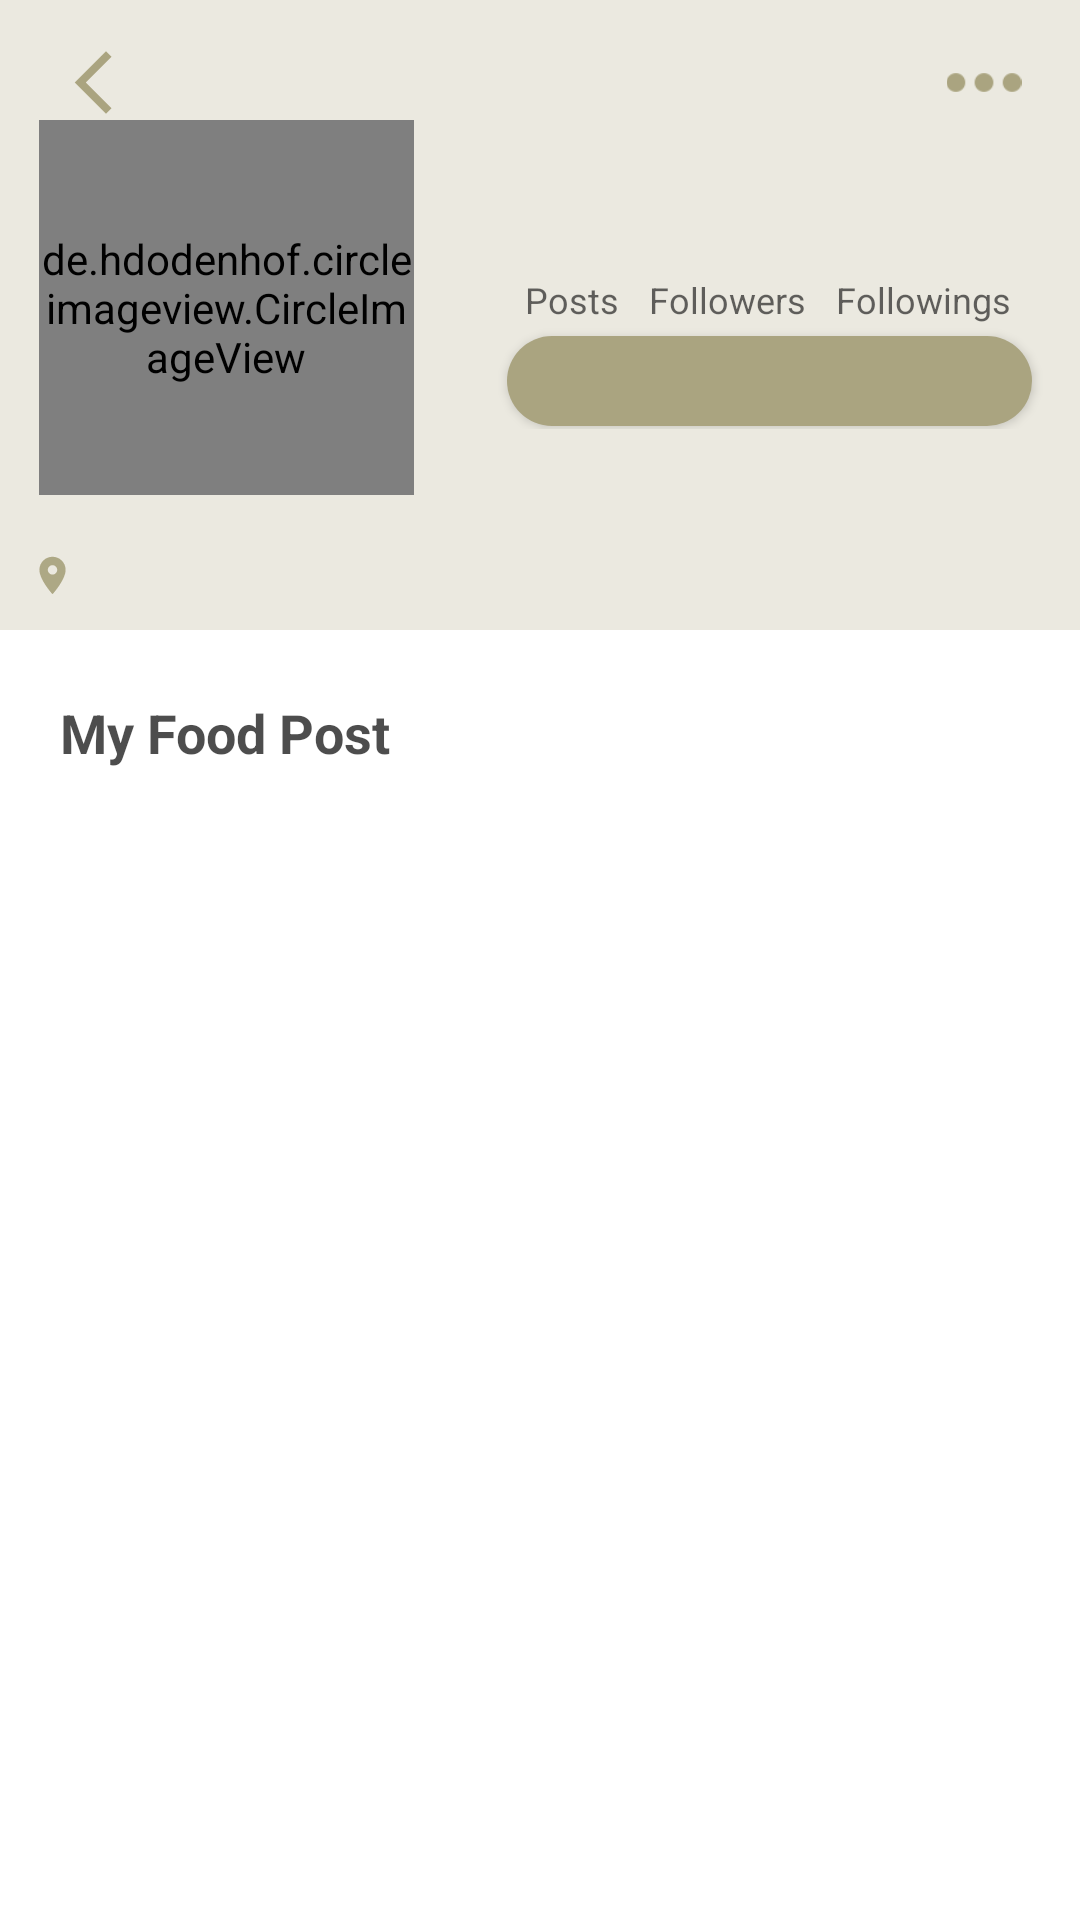

Icons on this 1080x1920 Android screen, each with the point to tap as [x,y]:
arrow back: [93,82]
location on: [52,575]
menu: [984,82]
